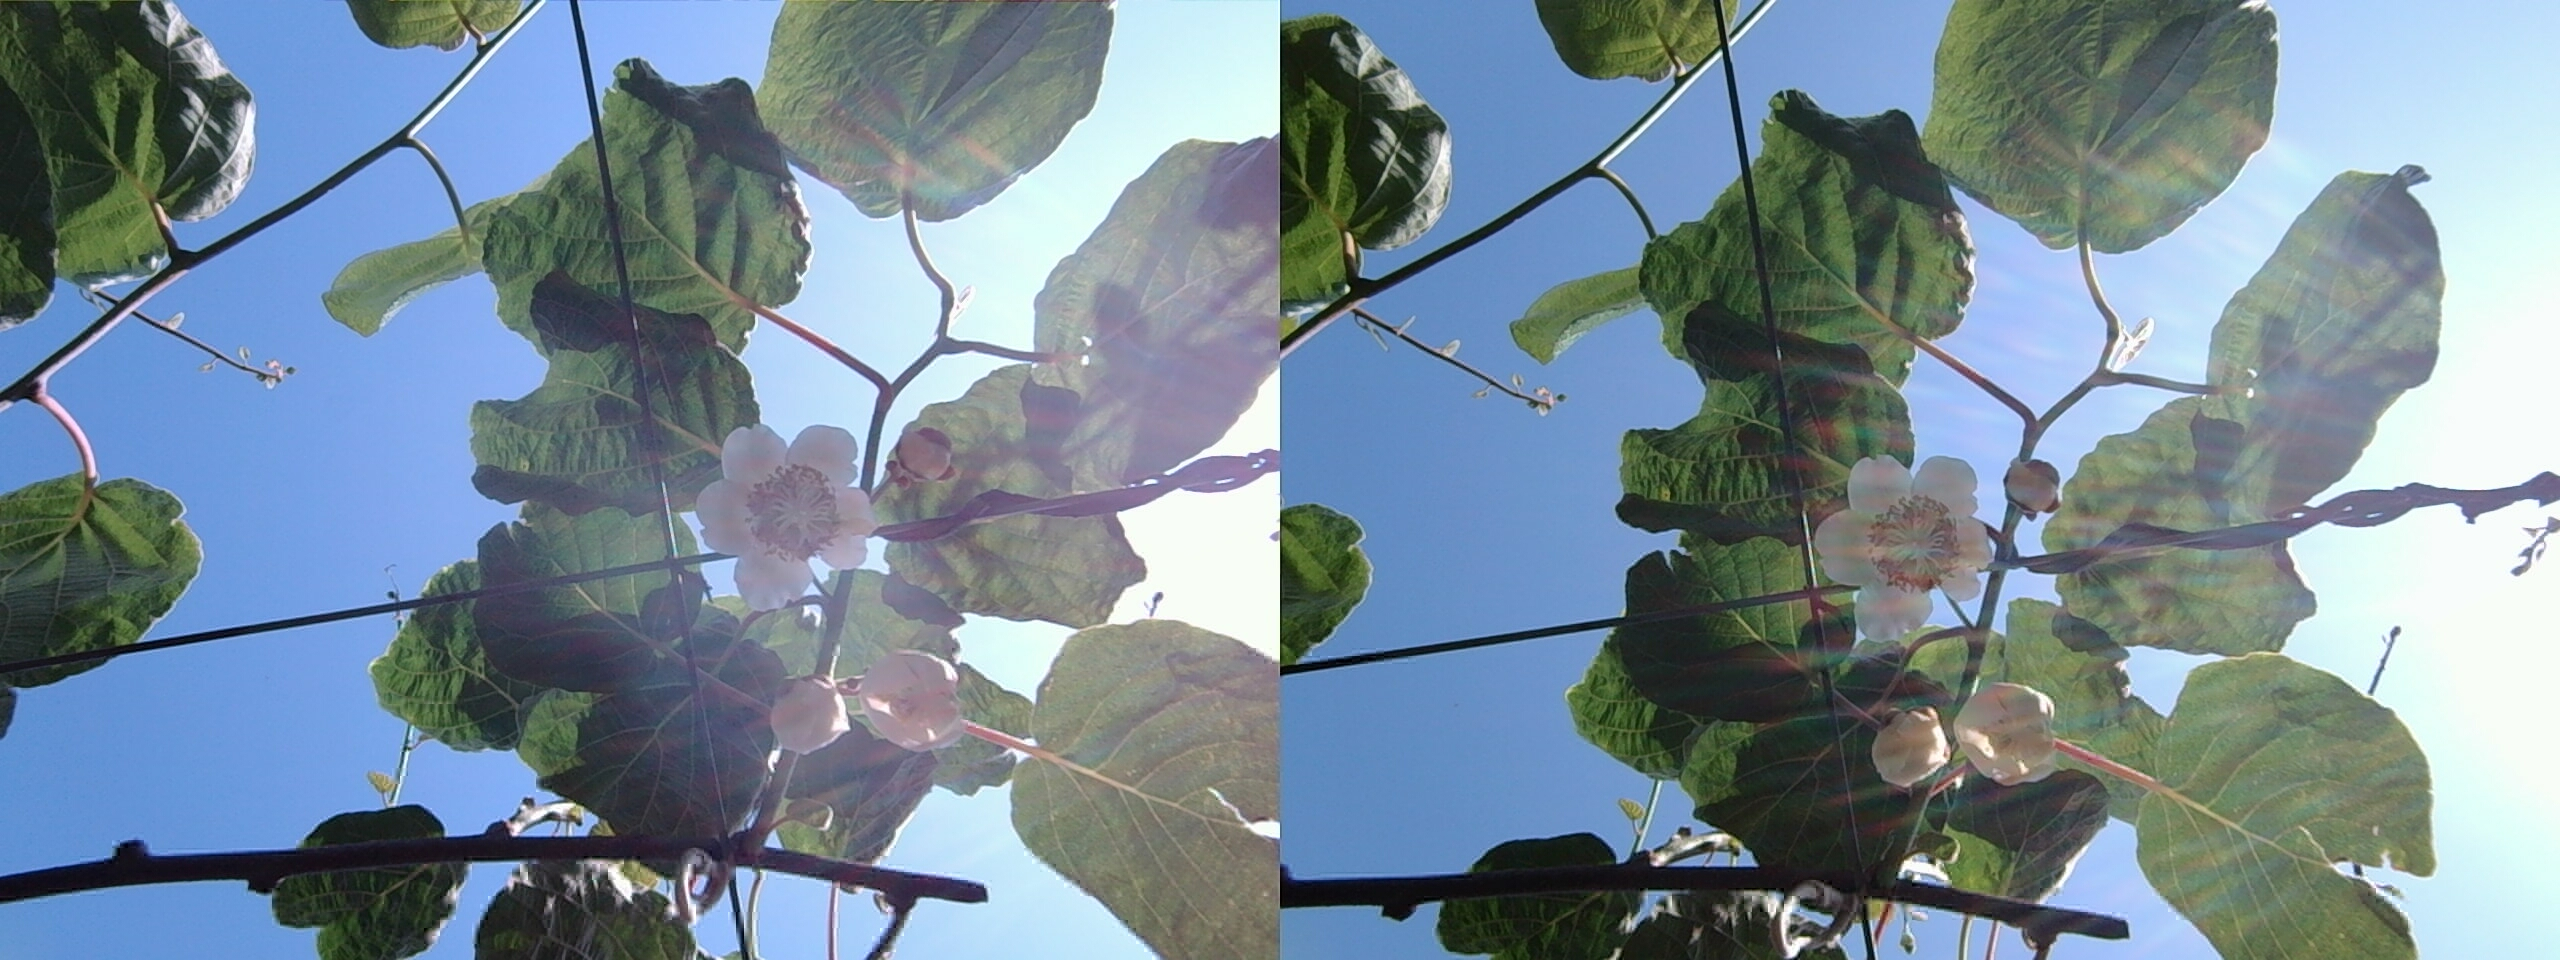flower: (681, 410, 880, 607), (1812, 446, 2003, 629)
